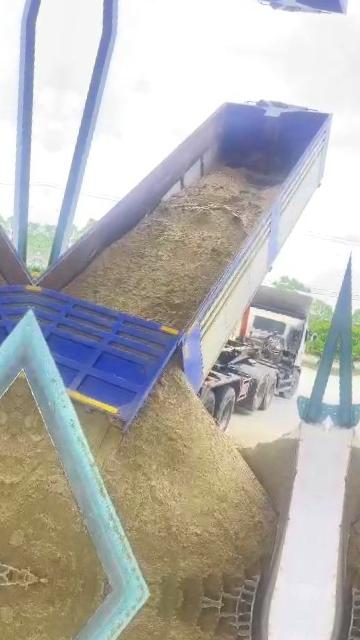sand: (78, 366, 275, 598), (64, 169, 275, 329), (0, 383, 102, 588)
